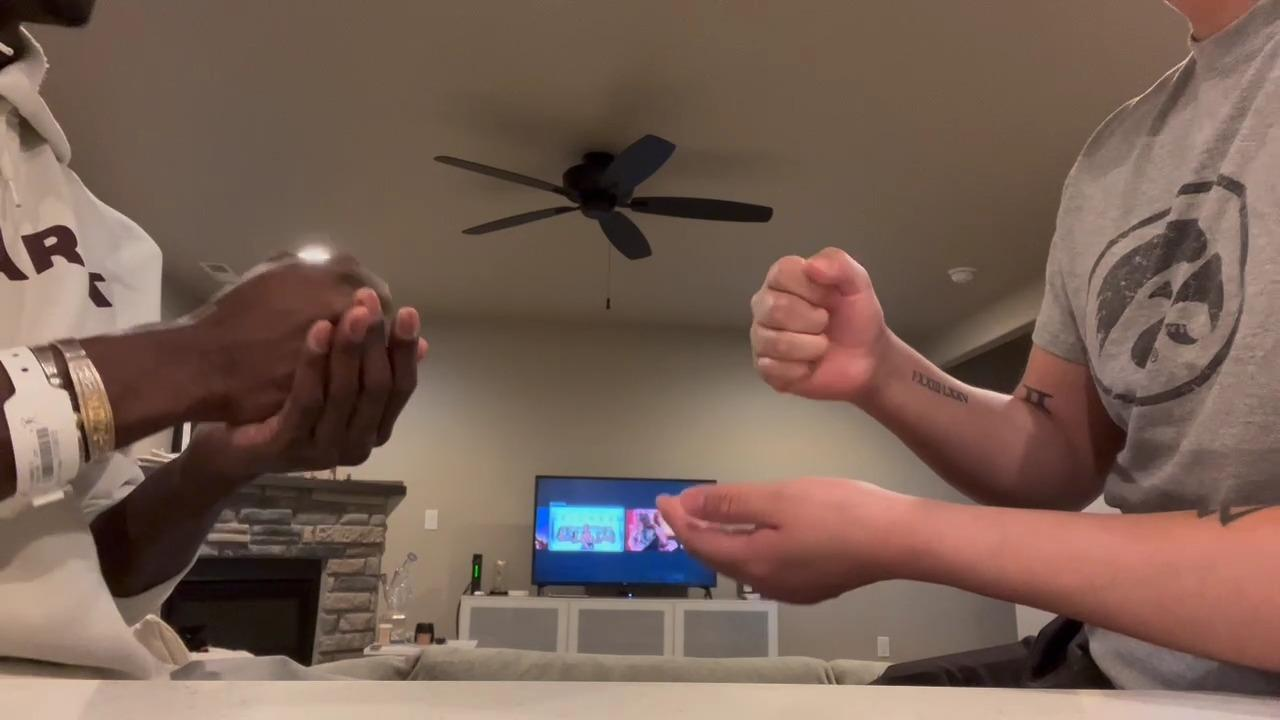Rock: (202, 243, 395, 429), (744, 246, 893, 408)
